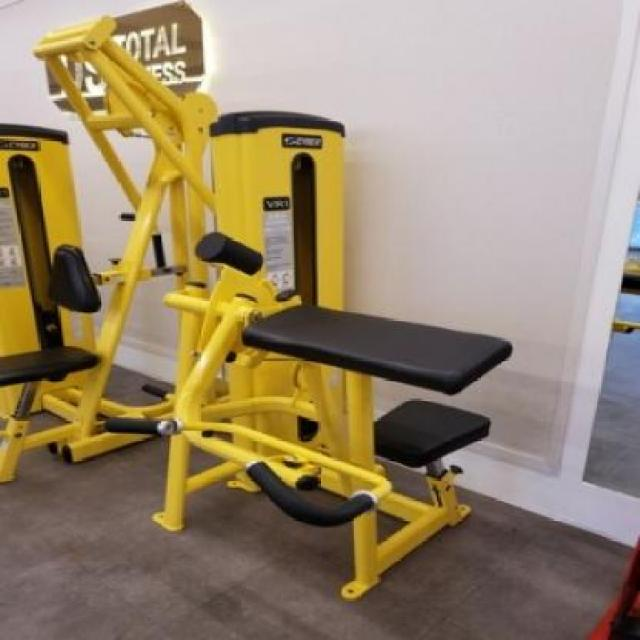arm curl machine: (101, 232, 514, 600)
